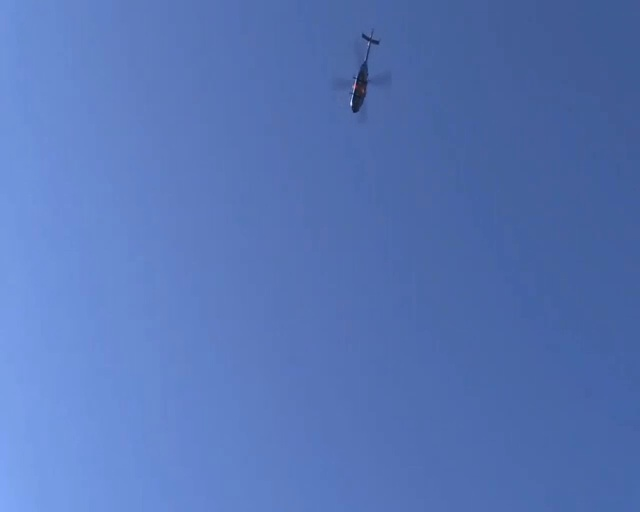HELICOPTER: (332, 27, 391, 114)
